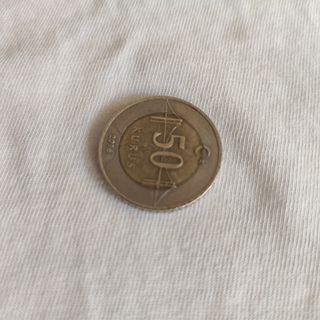50KURUS: (95, 94, 223, 214)
